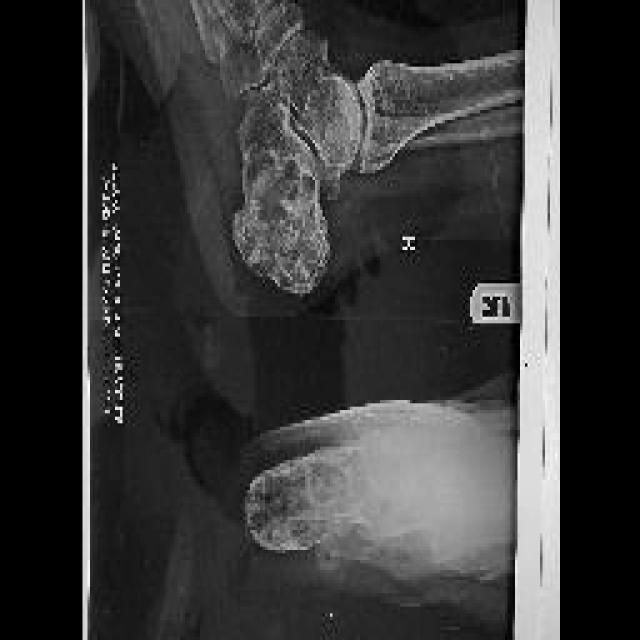bone-cancer: (229, 132, 331, 292)
